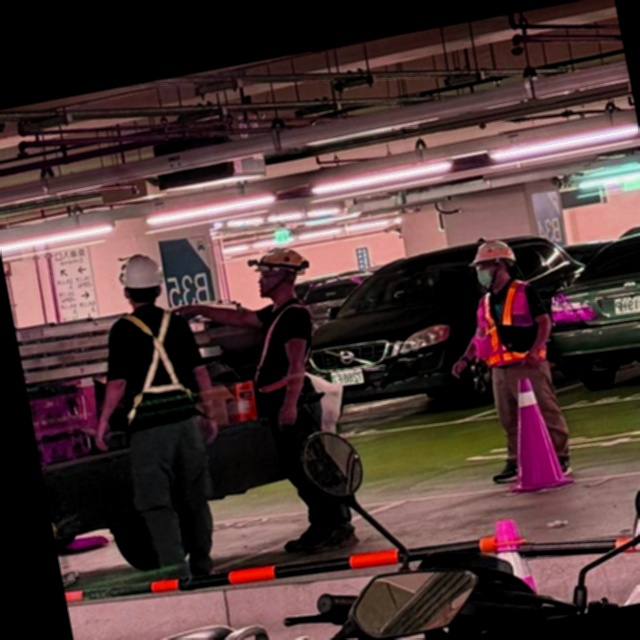Con_Casco: (242, 242, 316, 304), (111, 250, 169, 312), (467, 237, 520, 290)
Con_Chaleco: (103, 305, 203, 428), (237, 299, 326, 404), (464, 281, 556, 374)
